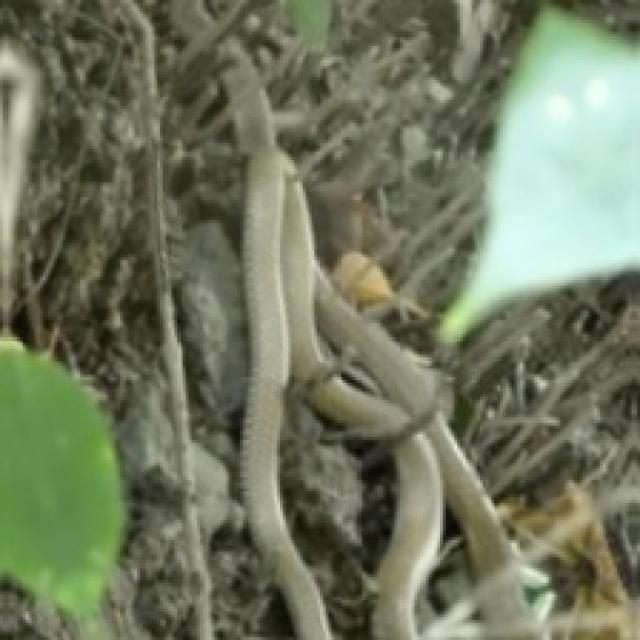king cobra: (224, 39, 538, 639)
